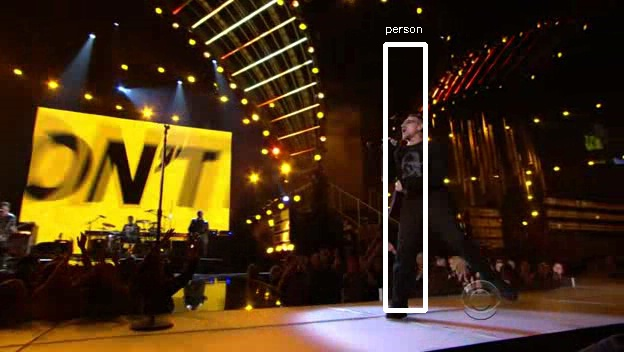person: (382, 113, 449, 224), (379, 113, 446, 224), (385, 113, 452, 224), (382, 110, 449, 221), (382, 116, 449, 227)
target_negative: (214, 17, 467, 123), (206, 252, 573, 295), (270, 265, 441, 340), (79, 325, 265, 338), (335, 188, 364, 225), (441, 232, 449, 352)
